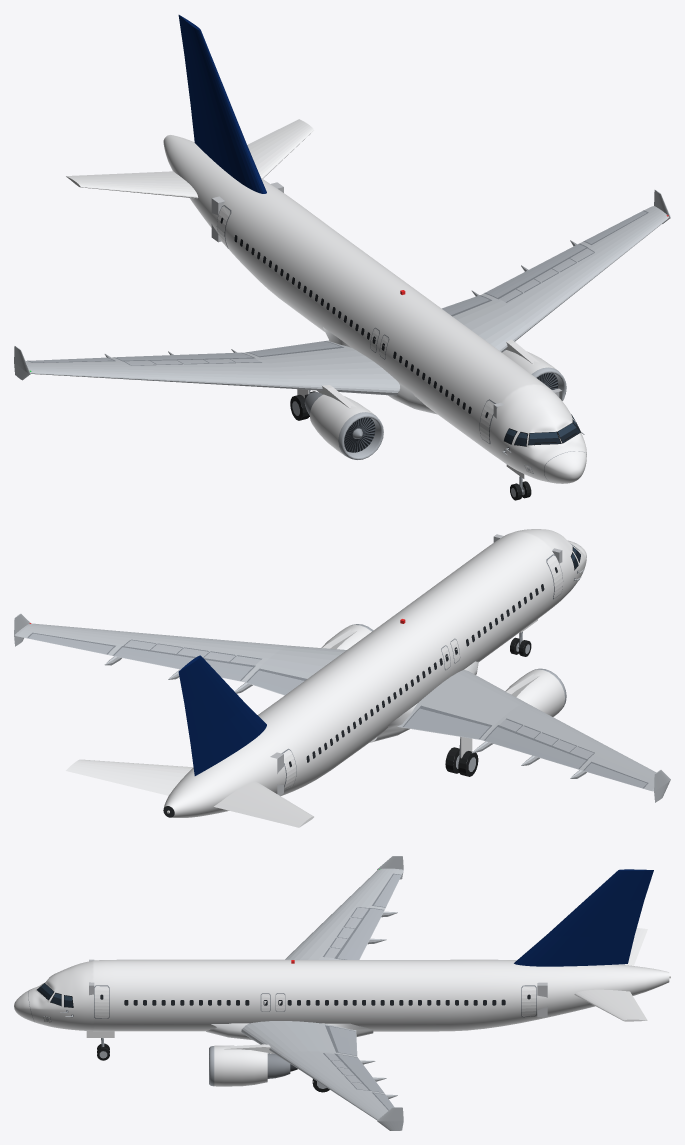
The picture shows the model from 3 angles, top to bottom: view 1: azimuth 30°, elevation 25°; view 2: azimuth 150°, elevation 25°; view 3: azimuth 270°, elevation 25°; orthographic projection. The views are drawn at different scales.
Visible parts, largest first — view 1: a320_exterior, a320_exterior_flat; view 2: a320_exterior, a320_exterior_flat; view 3: a320_exterior, a320_exterior_flat, a320_door_l1, a320_door_l2.
Part boxes in pixels (x1,y1,x2,y2): a320_exterior: (163,135,586,483); a320_exterior_flat: (14,15,670,500); a320_exterior: (163,529,586,817); a320_exterior_flat: (14,544,670,827); a320_exterior: (14,959,669,1086); a320_exterior_flat: (28,856,653,1130); a320_door_l1: (94,986,108,1018); a320_door_l2: (522,986,535,1016).
Size of the model in its own units: 34.22 by 11.89 by 37.67.
